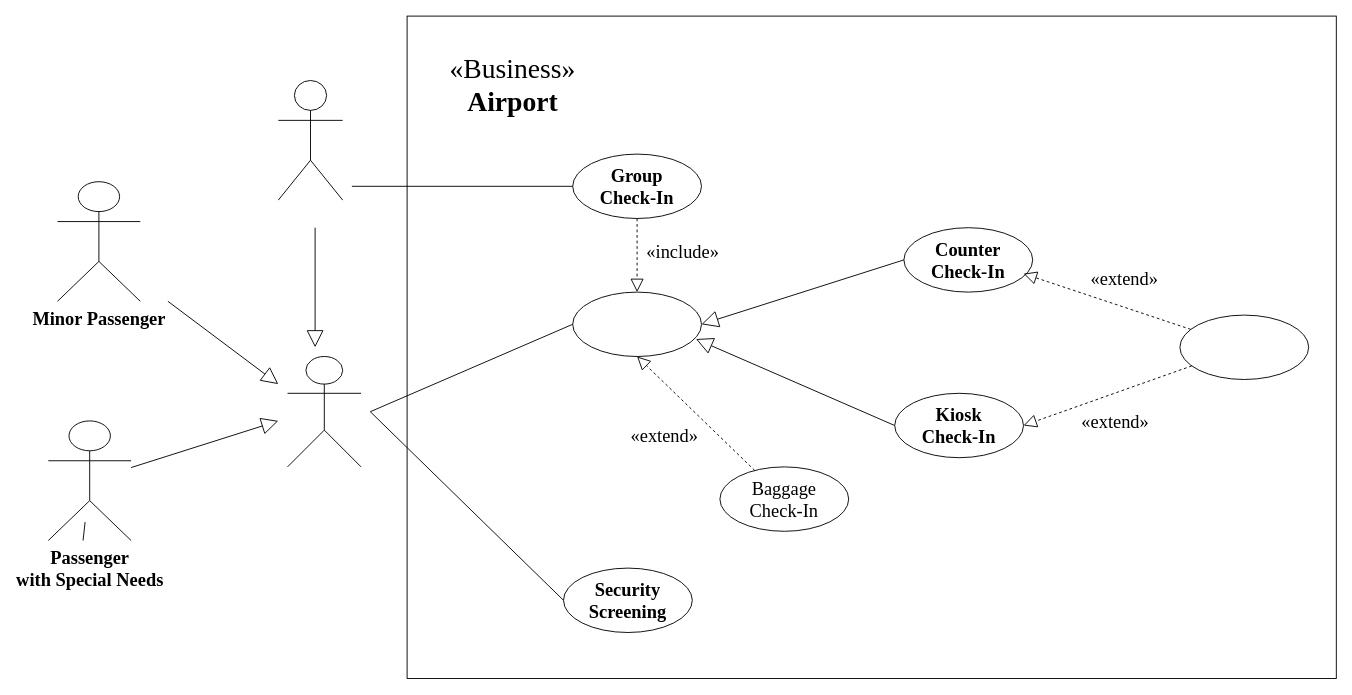
The diagram is 1352 pixels wide and 695 high, and some of its shapes have lost their labels. Here are the shapes that lost their labels. From the top down, the centre of each, then its label:
At (x=310, y=140): "Tour Guide".
At (x=637, y=323): "Individual Check-In".
At (x=1244, y=347): "Baggage Hamdling".
At (x=324, y=411): "Passenger".
